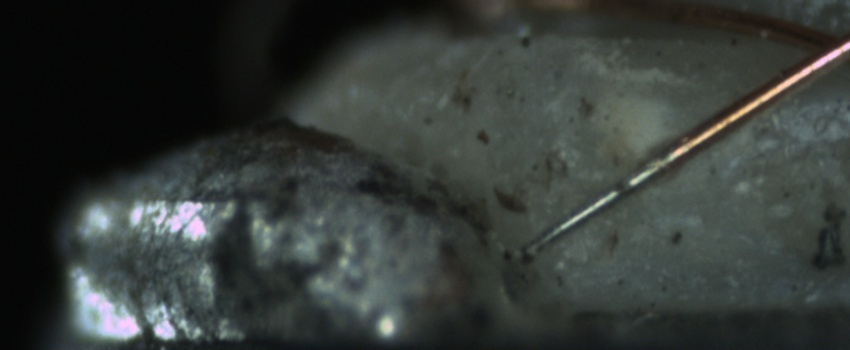CL: (797, 14, 847, 79)
DL: (755, 85, 849, 134)
TS: (518, 145, 676, 263)
TTCW: (518, 100, 740, 258)
